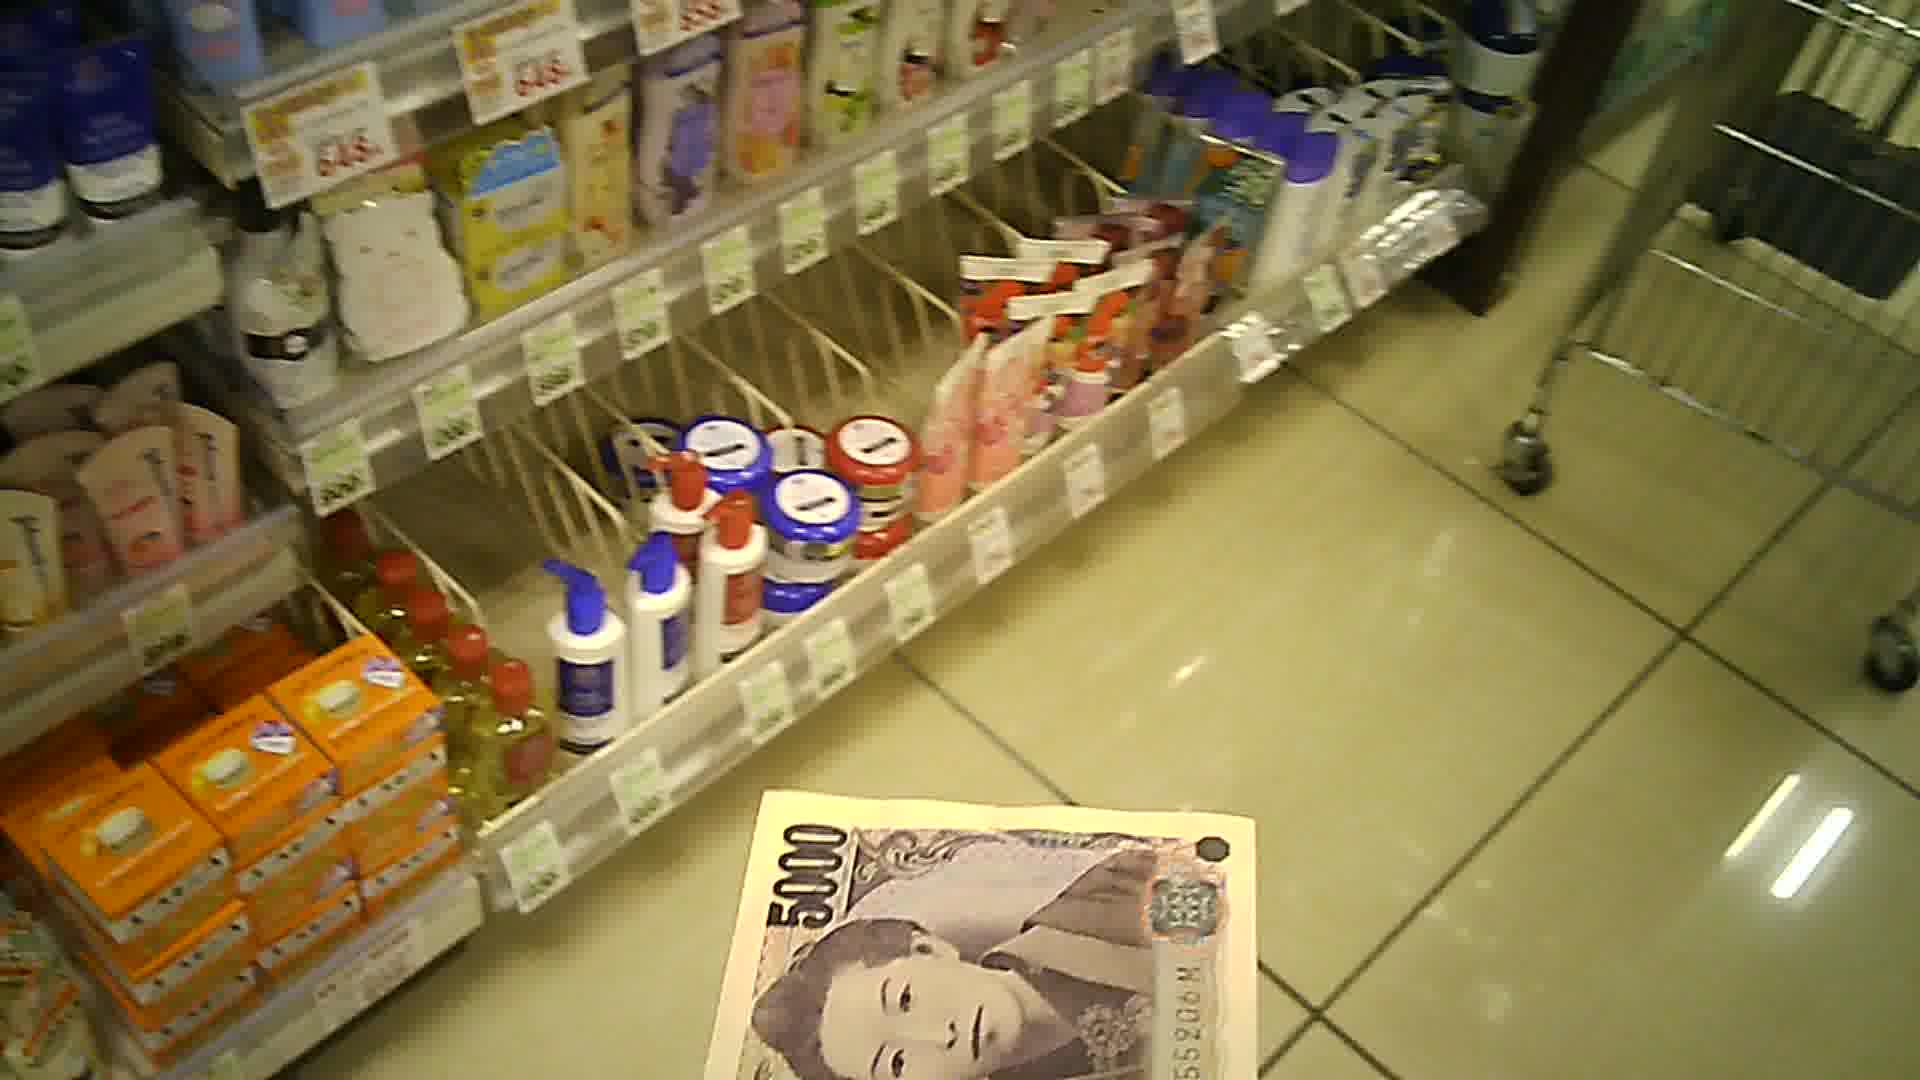5,000 Yen: (709, 771, 1269, 1077)
